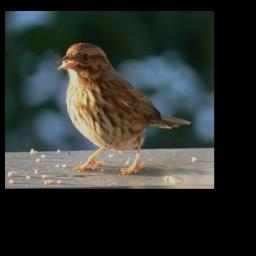Sparrow: (56, 40, 195, 175)
